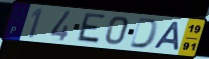0: (103, 15, 131, 47)
1: (28, 8, 44, 39)
4: (48, 9, 73, 43)
A: (152, 21, 181, 53)
D: (128, 17, 161, 51)
E: (74, 12, 107, 46)
